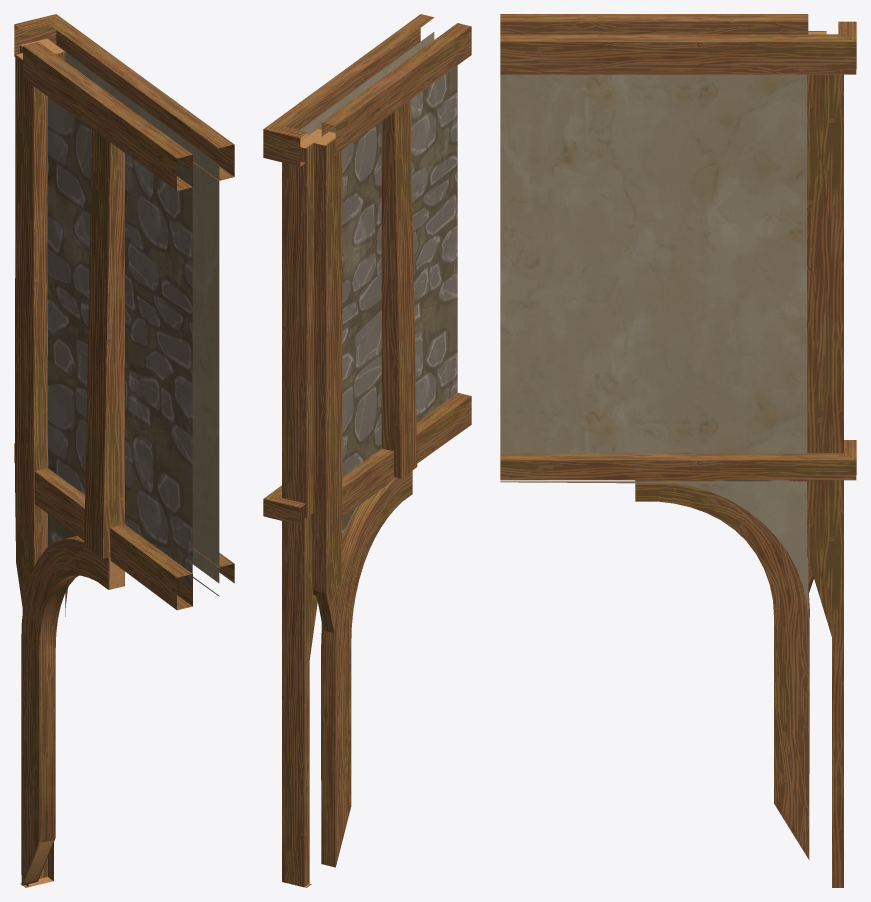
File: Overhang_Side_UnevenBrick_Long_L.gltf
The picture shows the model from 3 angles, left to right: view 1: azimuth 30°, elevation 25°; view 2: azimuth 150°, elevation 25°; view 3: azimuth 270°, elevation 25°; orthographic projection. The views are drawn at different scales.
Parts seen in each view (by area): view 1: Overhang_Side_UnevenBrick_Long_L; view 2: Overhang_Side_UnevenBrick_Long_L; view 3: Overhang_Side_UnevenBrick_Long_L.
Part boxes in pixels (box(x1,y1,x2,y2)): Overhang_Side_UnevenBrick_Long_L: box(14, 14, 234, 887); Overhang_Side_UnevenBrick_Long_L: box(263, 14, 471, 887); Overhang_Side_UnevenBrick_Long_L: box(500, 14, 856, 887).
Bounding box in the file's own units: 0.4794 × 6.12 × 2.31.
Materials: 3 (3 with a texture image).
